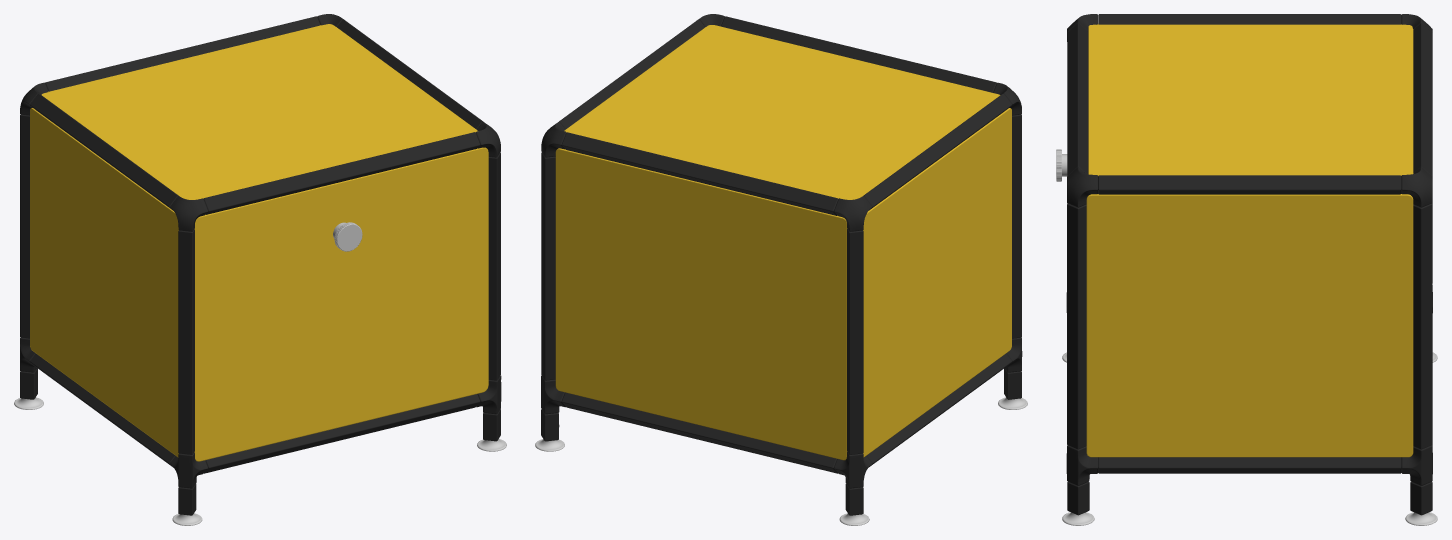
The picture shows the model from 3 angles, left to right: view 1: azimuth 30°, elevation 25°; view 2: azimuth 150°, elevation 25°; view 3: azimuth 270°, elevation 25°; orthographic projection. The views are drawn at different scales.
Parts seen in each view (by area): view 1: 420x374x330; view 2: 420x374x330; view 3: 420x374x330.
Boxes of the visible parts, x1,y1,x2,y2 form: 420x374x330: (14,14,506,525); 420x374x330: (535,14,1027,525); 420x374x330: (1056,14,1437,525).
Bounding box in the file's own units: 0.5099 × 0.4683 × 0.4706.
